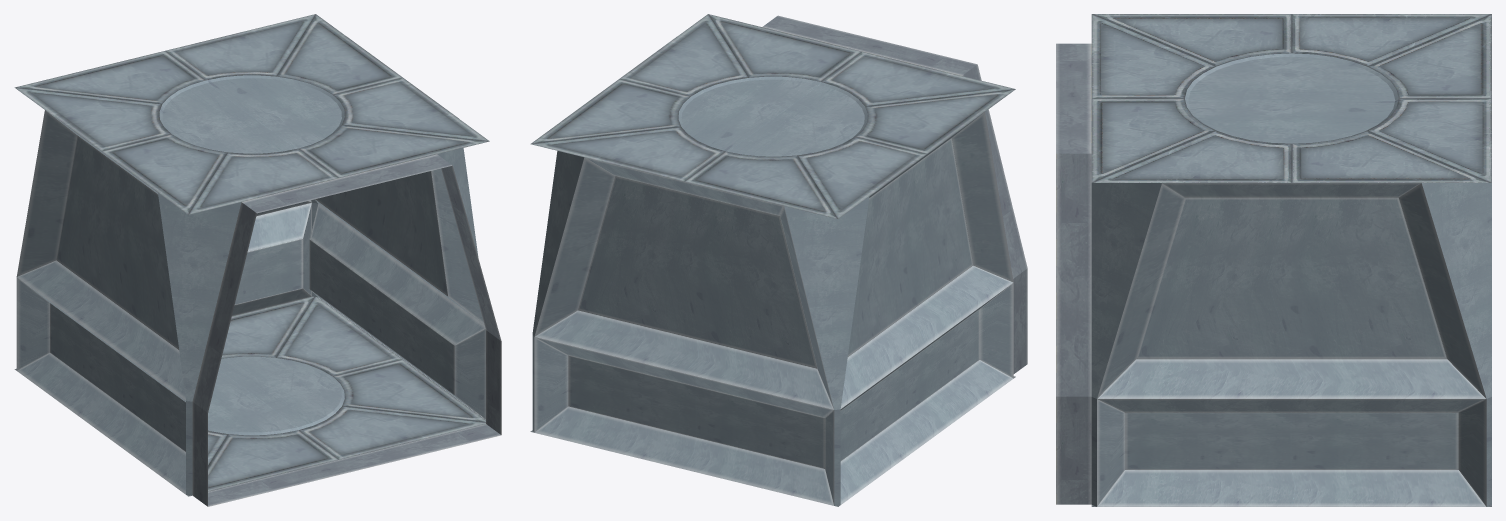
File: CorridorD.fbx
3 renders of one model, left to right at view 1: azimuth 30°, elevation 25°; view 2: azimuth 150°, elevation 25°; view 3: azimuth 270°, elevation 25°, orthographic. The views are drawn at different scales.
Visible parts, largest first — view 1: corridorD01, Bridge; view 2: corridorD01, Bridge; view 3: corridorD01, Bridge.
Boxes of the visible parts, x1,y1,x2,y2 form: corridorD01: (14,14,489,496); Bridge: (192,154,501,506); corridorD01: (530,14,1015,506); Bridge: (762,15,1027,373); corridorD01: (1091,14,1491,506); Bridge: (1056,43,1091,504).
Size of the model in its own units: 1.03 by 0.9169 by 1.12.
